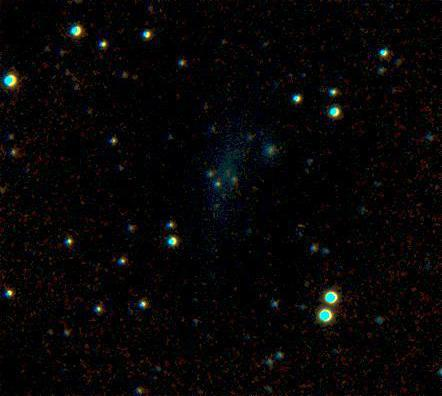star: (281, 218, 311, 248)
